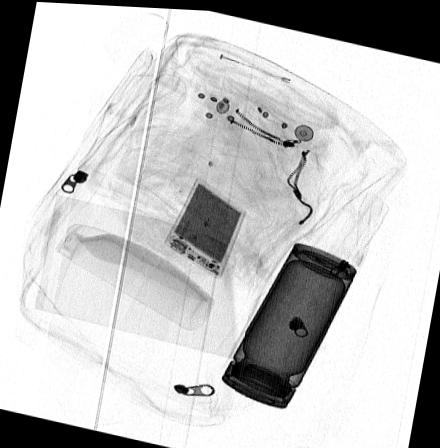Powerbank: (163, 173, 247, 274)
